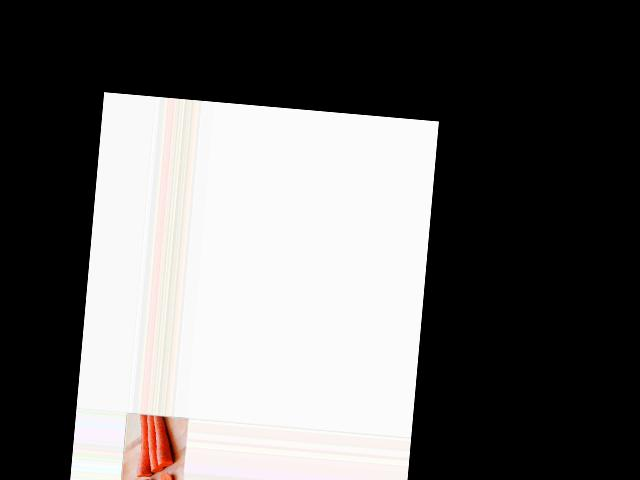carrot: (152, 414, 177, 473)
